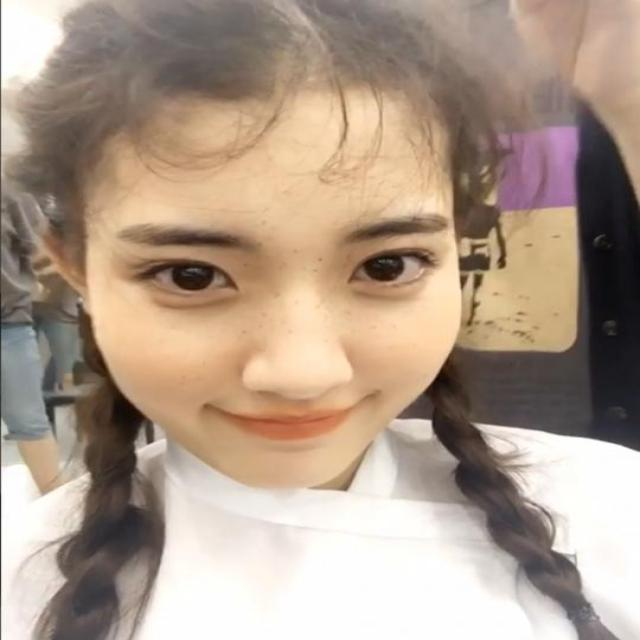freckle: (243, 235, 364, 344)
